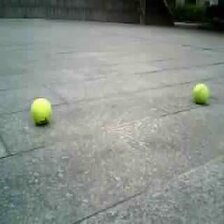tennis: (30, 97, 51, 122), (192, 84, 209, 103)
